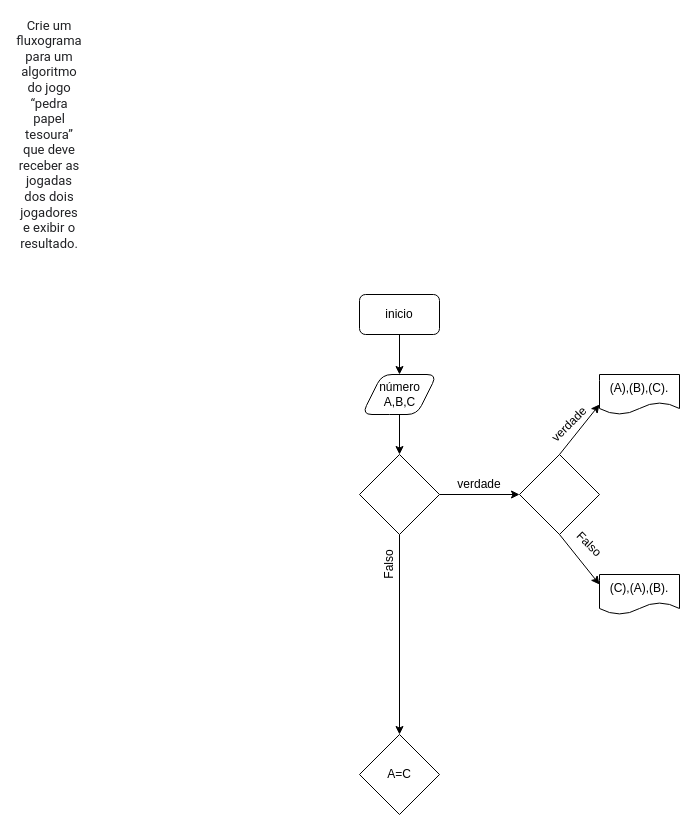
The diagram is 697 pixels wide and 832 high, and some of its shapes have lost their labels. Each missing label, with the centre of its shape:
A=B: point 399,494
A>C: point 559,494
